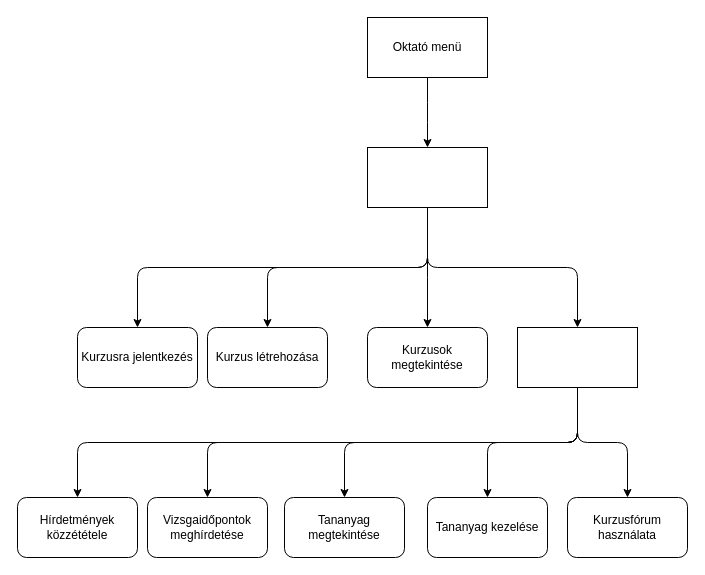
The diagram is 705 pixels wide and 575 high, and some of its shapes have lost their labels. Here are the shapes that lost their labels. From the top down, the centre of each, then its label:
At (427,177): "Kurzusok menü".
At (577,357): "Egy Kurzus menüje".
